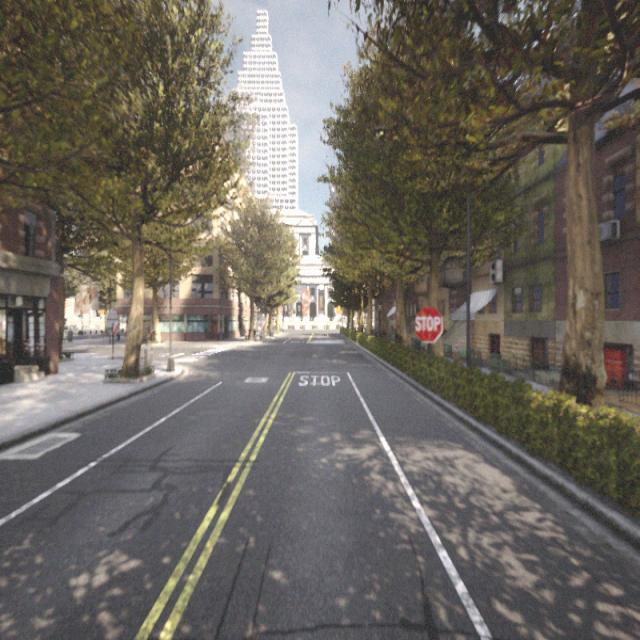stop sign: (412, 303, 445, 344), (414, 314, 442, 332)
